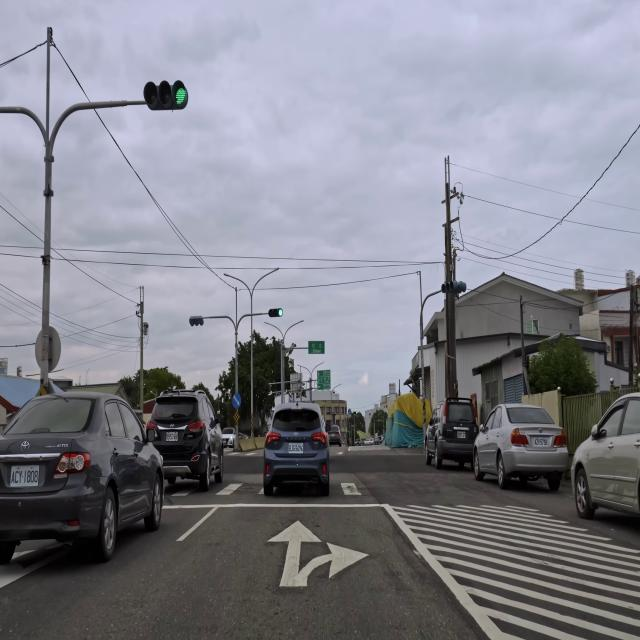green light: (143, 80, 188, 112), (268, 309, 283, 317)
